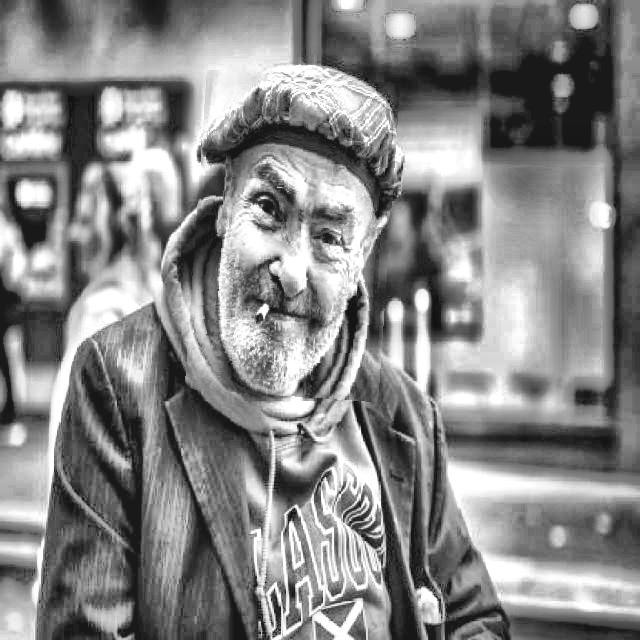happy: (191, 73, 395, 399)
